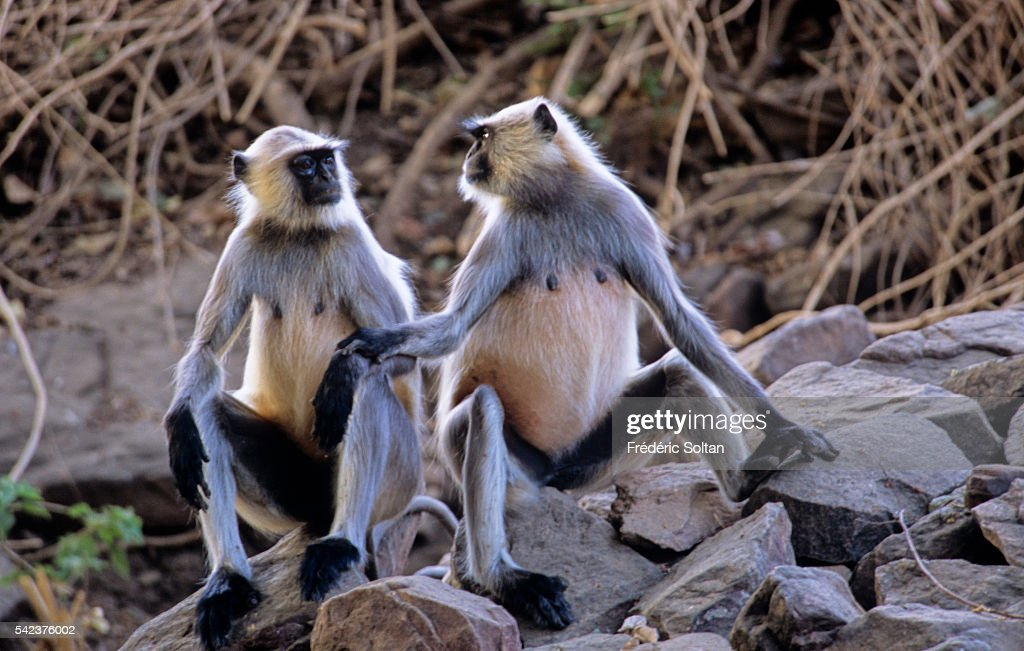monkey: (342, 72, 839, 628), (139, 109, 440, 634)
